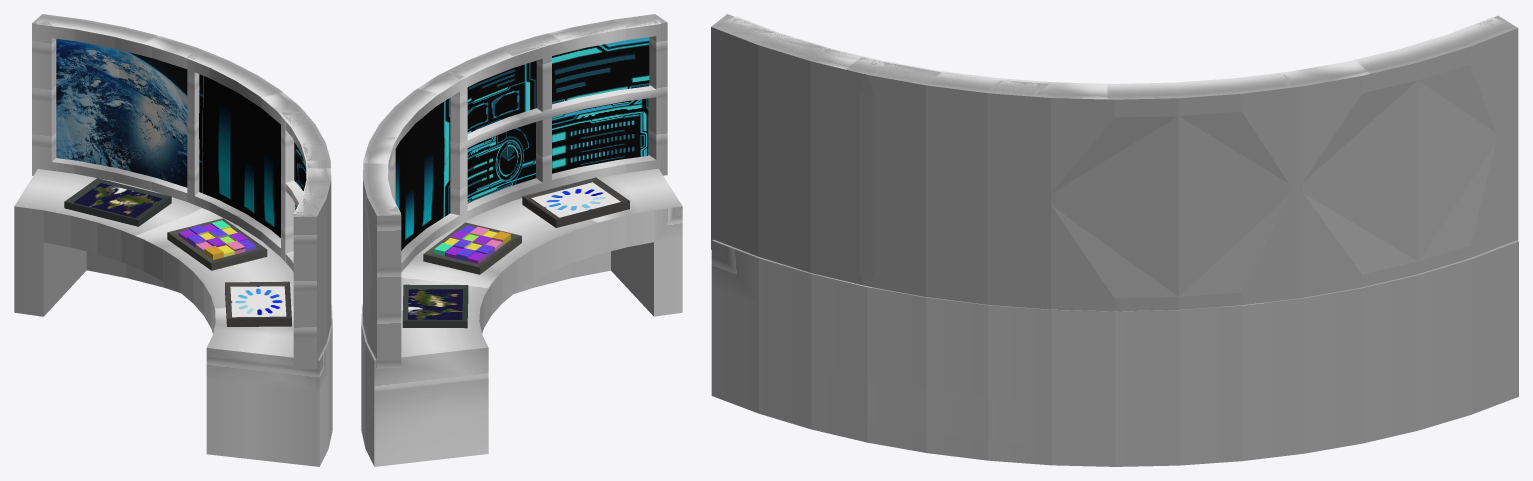
Rendered from consola_mando4.fbx.
The picture shows the model from 3 angles, left to right: view 1: azimuth 30°, elevation 25°; view 2: azimuth 150°, elevation 25°; view 3: azimuth 270°, elevation 25°; orthographic projection. The views are drawn at different scales.
Parts seen in each view (by area): view 1: Cube, Cubo.002, Cubo, Cubo.001; view 2: Cube, Cubo.001, Cubo.002, Cubo; view 3: Cube.
Part boxes in pixels (box(x1,y1,x2,y2)): Cube: box(14, 14, 332, 466); Cubo.002: box(167, 218, 267, 270); Cubo: box(64, 178, 171, 226); Cubo.001: box(225, 281, 291, 326); Cube: box(361, 14, 682, 466); Cubo.001: box(522, 177, 629, 227); Cubo.002: box(423, 222, 521, 274); Cubo: box(402, 284, 468, 328); Cube: box(711, 14, 1518, 466).
Size of the model in its own units: 362 by 507 by 1011.
Materials: 10 (7 with a texture image).
